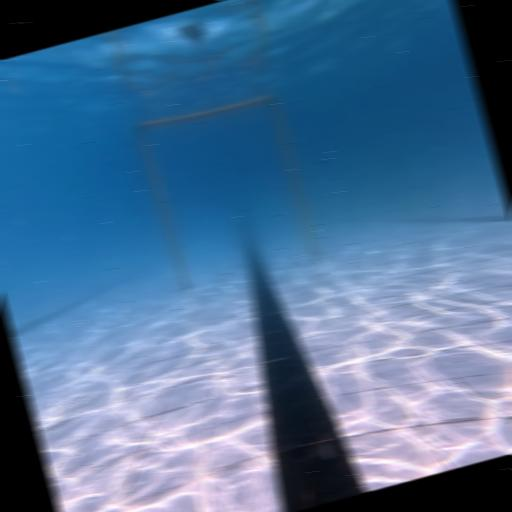gate: (134, 86, 322, 294)
